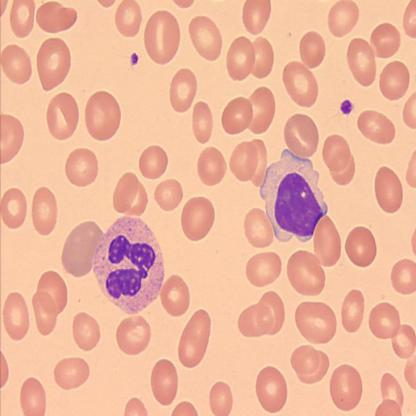Atypical lymphocyte: (92, 214, 168, 316), (259, 148, 330, 245)
